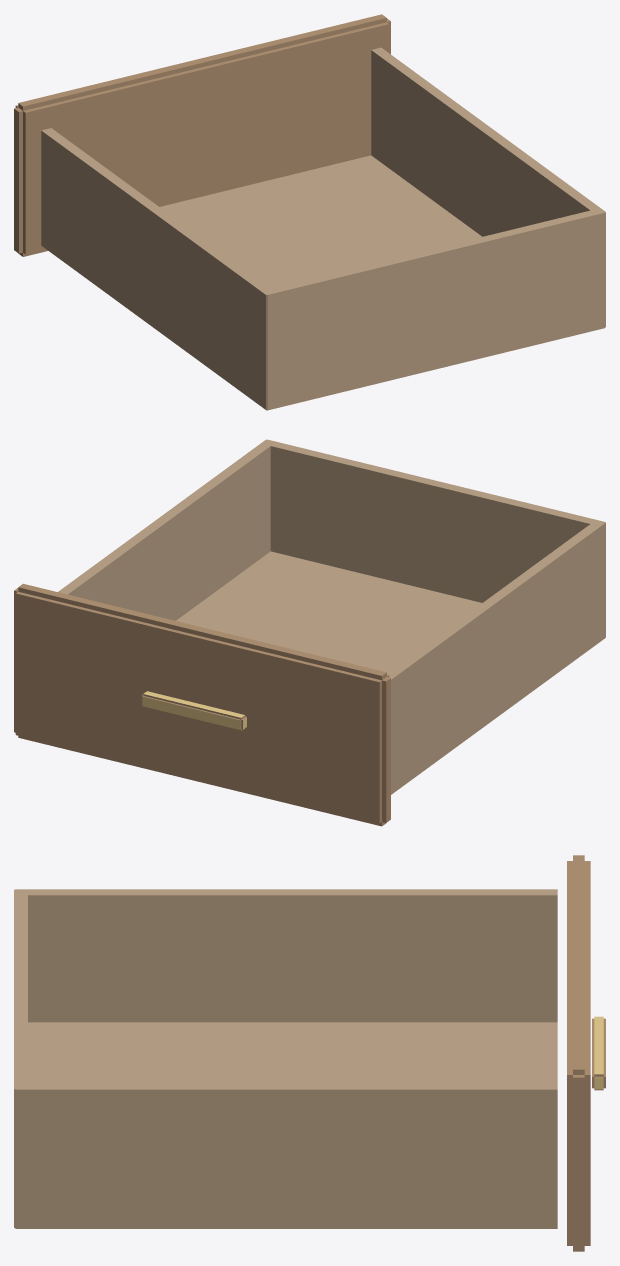
The model's file is escritorio_cajon.glb.
The picture shows the model from 3 angles, top to bottom: view 1: azimuth 30°, elevation 25°; view 2: azimuth 150°, elevation 25°; view 3: azimuth 270°, elevation 25°; orthographic projection. The views are drawn at different scales.
Visible parts, largest first — view 1: escritorio_cajon; view 2: escritorio_cajon; view 3: escritorio_cajon.
Boxes of the visible parts, bbox=[...] form: escritorio_cajon: bbox=[14, 14, 605, 410]; escritorio_cajon: bbox=[14, 439, 605, 826]; escritorio_cajon: bbox=[14, 855, 605, 1251].
Bounding box in the file's own units: 0.44 × 0.17 × 0.502.
